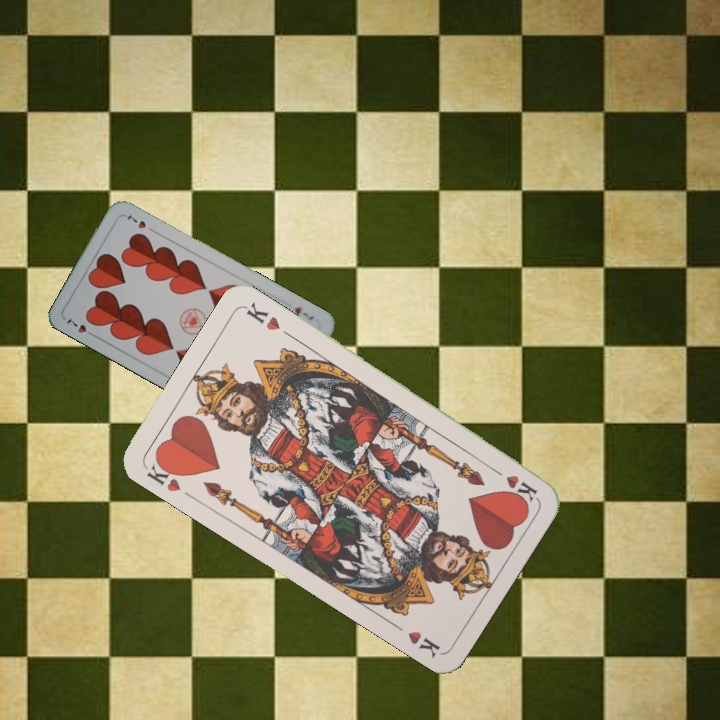H7: (62, 314, 99, 340), (290, 302, 317, 323)
HK: (485, 462, 540, 503), (142, 454, 186, 495)
